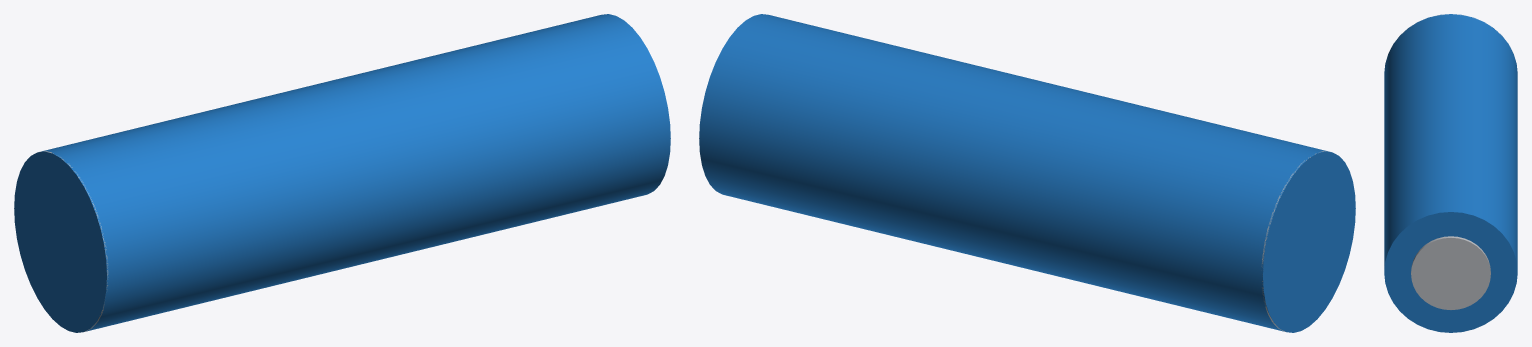
Rendered from bateria_18650.glb.
3 renders of one model, left to right at view 1: azimuth 30°, elevation 25°; view 2: azimuth 150°, elevation 25°; view 3: azimuth 270°, elevation 25°, orthographic. The views are drawn at different scales.
Parts seen in each view (by area): view 1: corpo; view 2: corpo; view 3: corpo, polos.
Boxes of the visible parts, x1=… form: corpo: x1=14, y1=14, x2=670, y2=332; corpo: x1=699, y1=14, x2=1355, y2=332; corpo: x1=1384, y1=14, x2=1517, y2=332; polos: x1=1387, y1=14, x2=1513, y2=309.
Bounding box in the file's own units: 65 × 18.4 × 18.4.
